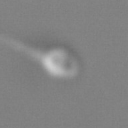normal: (1, 30, 45, 61)
